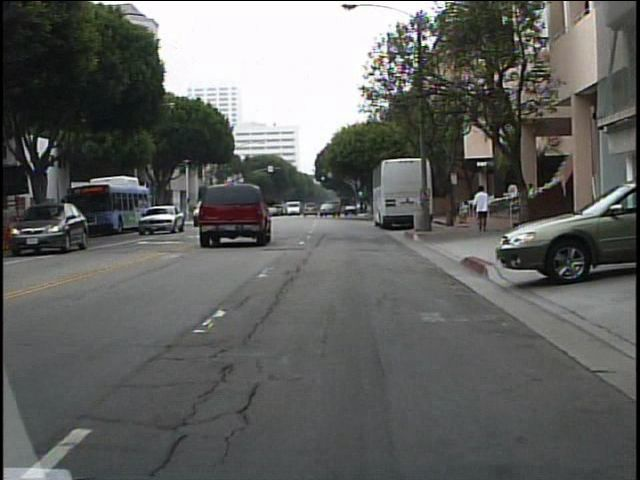person: (472, 185, 496, 238), (460, 196, 472, 225)
